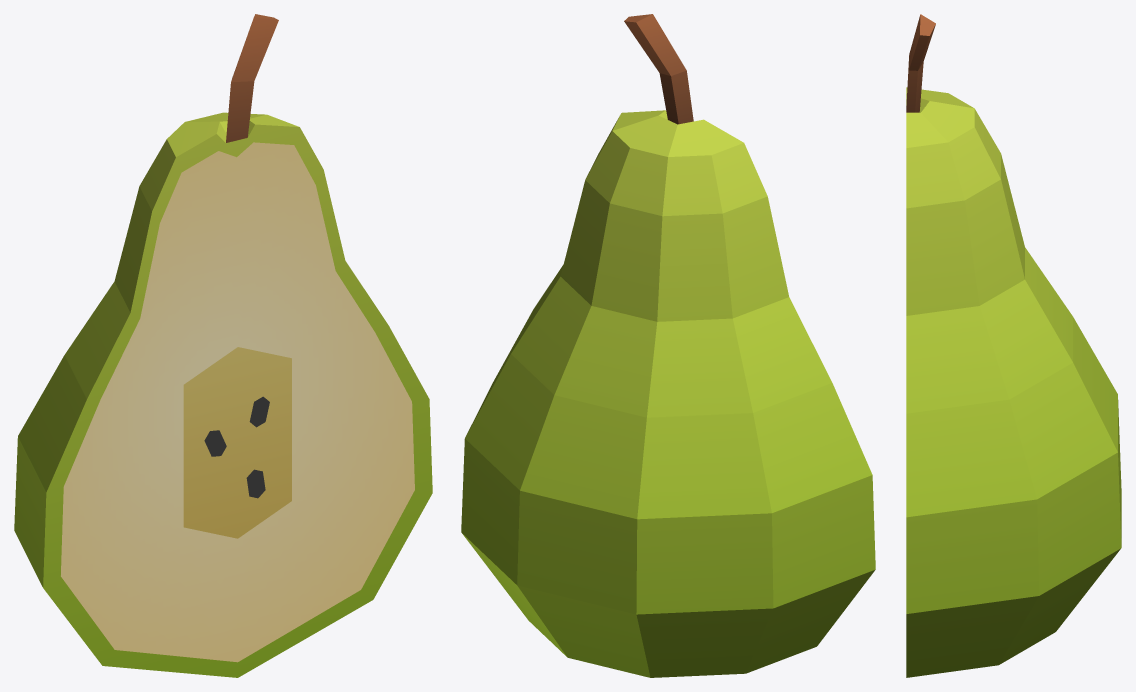
The model's file is Pear Half.fbx.
The picture shows the model from 3 angles, left to right: view 1: azimuth 30°, elevation 25°; view 2: azimuth 150°, elevation 25°; view 3: azimuth 270°, elevation 25°; orthographic projection.
Visible parts, largest first — view 1: Pear Half; view 2: Pear Half; view 3: Pear Half.
Boxes of the visible parts, left/top/right/bottom form: Pear Half: left=14, top=14, right=432, bottom=677; Pear Half: left=461, top=14, right=875, bottom=677; Pear Half: left=906, top=14, right=1121, bottom=677.
Bounding box in the file's own units: 14.66 × 23.38 × 7.03.
